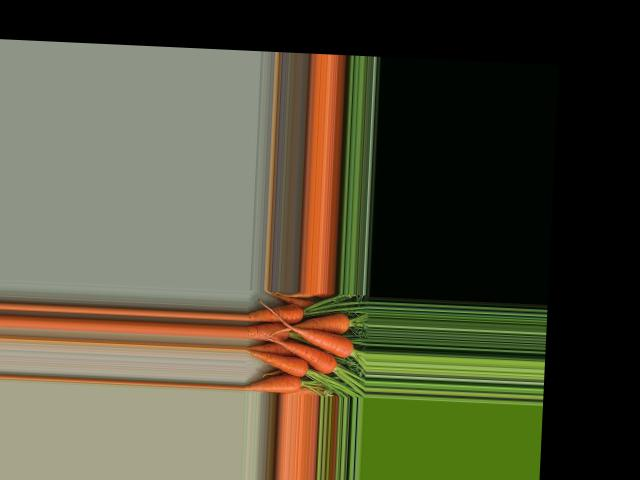carrot: (243, 379, 303, 392)
